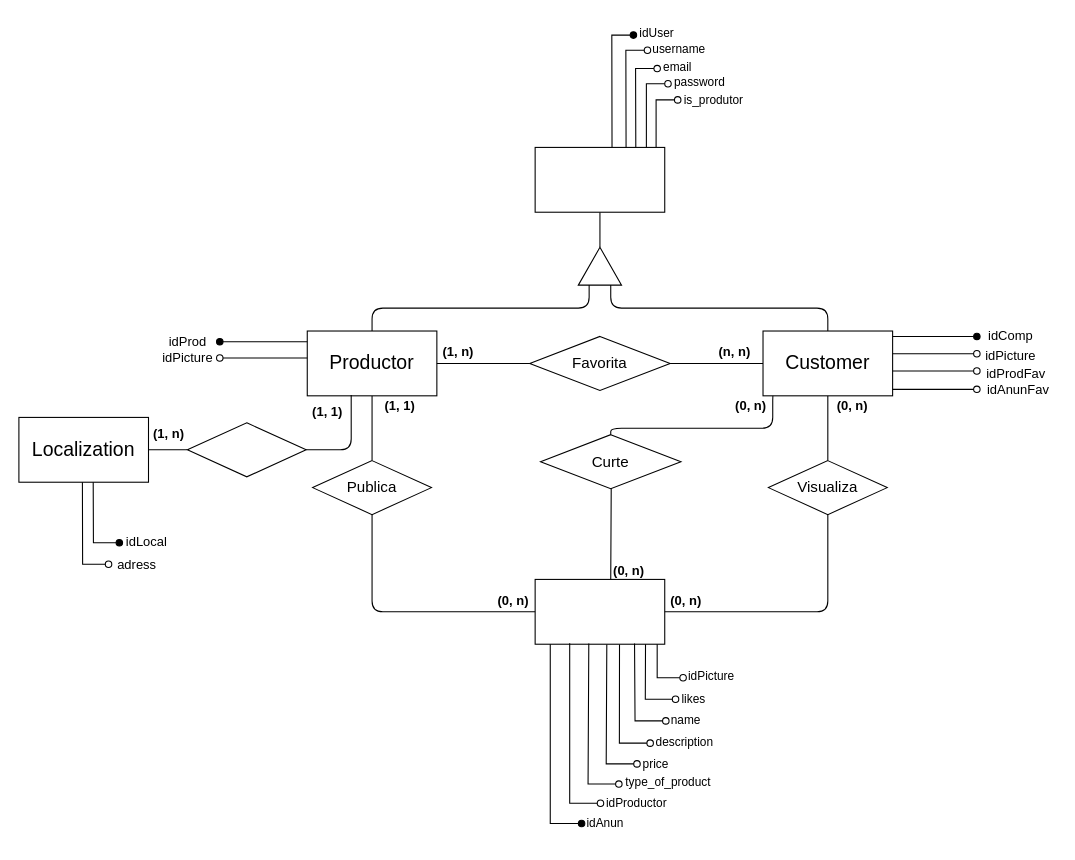
Some shapes in this 1075 by 860 pixel diagram are drawn without their labels. The box of each missing label's shape, as (x1, y1, x2, y2) in pixels:
Announcement: (534, 578, 665, 644)
Possui: (186, 422, 306, 477)
User: (534, 146, 665, 212)
